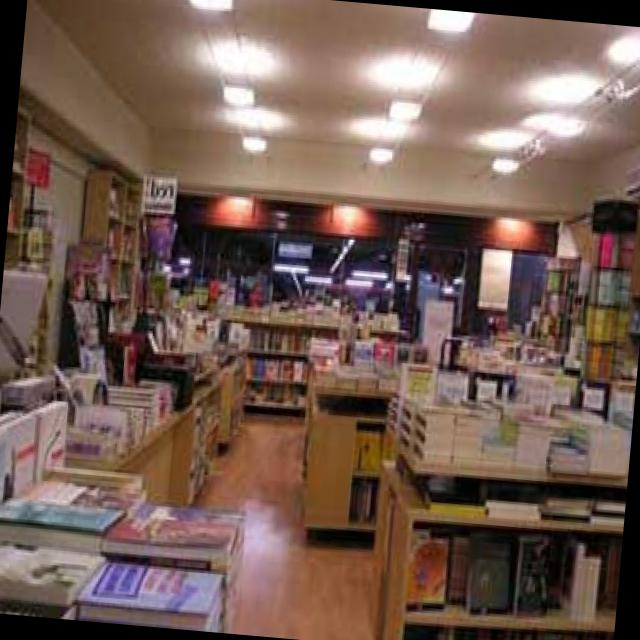2001: (166, 226, 554, 330)
book case: (466, 530, 513, 611), (33, 396, 70, 482), (515, 530, 551, 616)
book stand: (0, 331, 250, 630), (366, 427, 631, 640), (304, 380, 401, 536)
bookcase crop: (247, 316, 401, 412), (75, 166, 148, 352)
books crop: (103, 497, 246, 621), (75, 554, 229, 628), (0, 490, 125, 554), (400, 396, 489, 466), (0, 548, 103, 607), (18, 471, 148, 515), (108, 375, 175, 448), (556, 529, 601, 616), (69, 401, 132, 453), (160, 305, 247, 339), (141, 355, 197, 407), (402, 360, 431, 403), (209, 283, 238, 303)
ceiling beam: (37, 0, 640, 157)
floor -X: (0, 362, 626, 640)
lamp crop: (528, 109, 584, 137), (427, 8, 475, 32), (390, 96, 424, 121), (224, 84, 254, 107), (191, 0, 233, 9)
wall clock: (132, 126, 595, 408), (0, 0, 151, 421), (548, 140, 640, 473)
